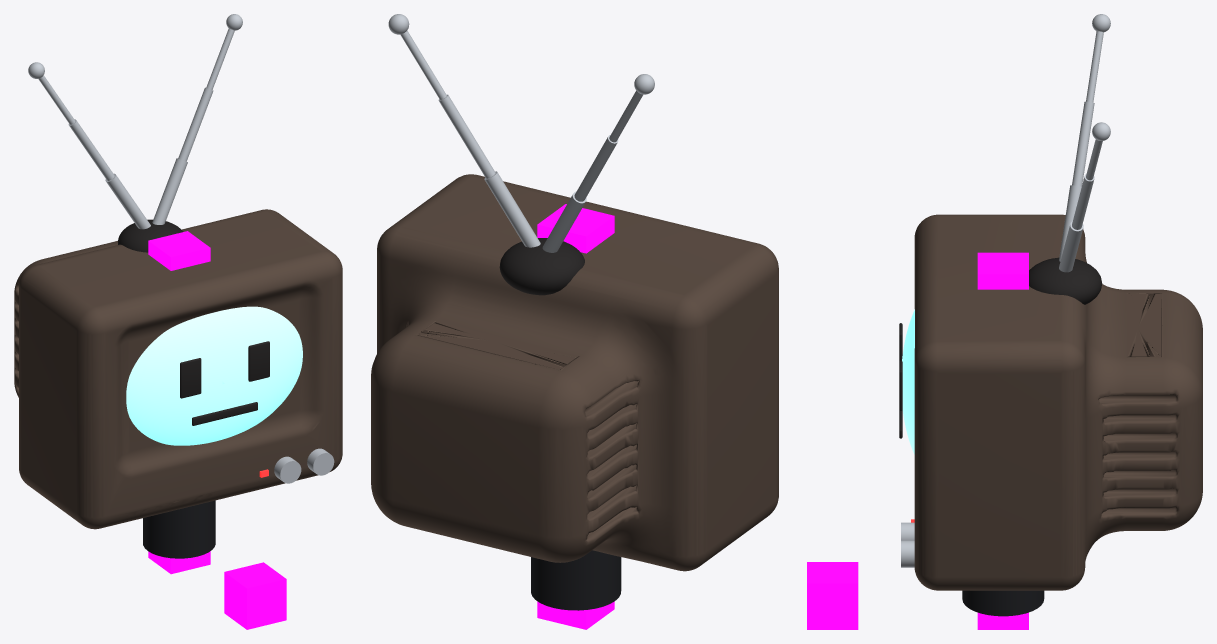
The model's file is TVHead.glb.
3 renders of one model, left to right at view 1: azimuth 30°, elevation 25°; view 2: azimuth 150°, elevation 25°; view 3: azimuth 270°, elevation 25°, orthographic. The views are drawn at different scales.
Parts seen in each view (by area): view 1: Case, Screen, _Front, NeckJoint, _Up, AntennaBase, AntennaL0, ScreenEyeL, ScreenEyeR, _Root, AntennaR0, AntennaL1 (+5 smaller); view 2: Case, NeckJoint, AntennaBase, _Up, AntennaL0, _Root, AntennaL1, AntennaR0, AntennaR1, AntennaL2; view 3: Case, _Front, AntennaBase, _Up, NeckJoint, Screen, AntennaR1, _Root, AntennaL0, AntennaR2, AntennaL1, AntennaR0.
Boxes of the visible parts, x1,y1,x2,y2 form: Case: (14, 209, 342, 529); Screen: (126, 306, 302, 445); _Front: (224, 562, 286, 629); NeckJoint: (143, 500, 215, 558); _Up: (148, 231, 210, 270); AntennaBase: (118, 219, 183, 252); AntennaL0: (152, 158, 187, 224); ScreenEyeL: (248, 341, 269, 381); ScreenEyeR: (180, 358, 201, 398); _Root: (148, 551, 210, 574); AntennaR0: (105, 173, 150, 229); AntennaL1: (178, 87, 213, 161); Case: (371, 174, 778, 571); NeckJoint: (531, 550, 621, 610); AntennaBase: (499, 238, 584, 295); _Up: (537, 204, 614, 253); AntennaL0: (484, 171, 540, 247); _Root: (537, 601, 614, 629); AntennaL1: (438, 94, 495, 178); AntennaR0: (542, 191, 586, 252); AntennaR1: (574, 134, 618, 201); AntennaL2: (400, 30, 446, 99); Case: (914, 214, 1202, 590); _Front: (807, 562, 858, 629); AntennaBase: (1029, 257, 1102, 304); _Up: (977, 252, 1028, 289); NeckJoint: (962, 590, 1044, 616); Screen: (902, 309, 914, 454); AntennaR1: (1072, 101, 1094, 186); _Root: (977, 612, 1028, 629); AntennaL0: (1059, 221, 1083, 272); AntennaR2: (1086, 31, 1103, 102); AntennaL1: (1072, 174, 1094, 229); AntennaR0: (1059, 185, 1081, 261).
Bounding box in the file's own units: 2 × 3.56 × 2.32.
